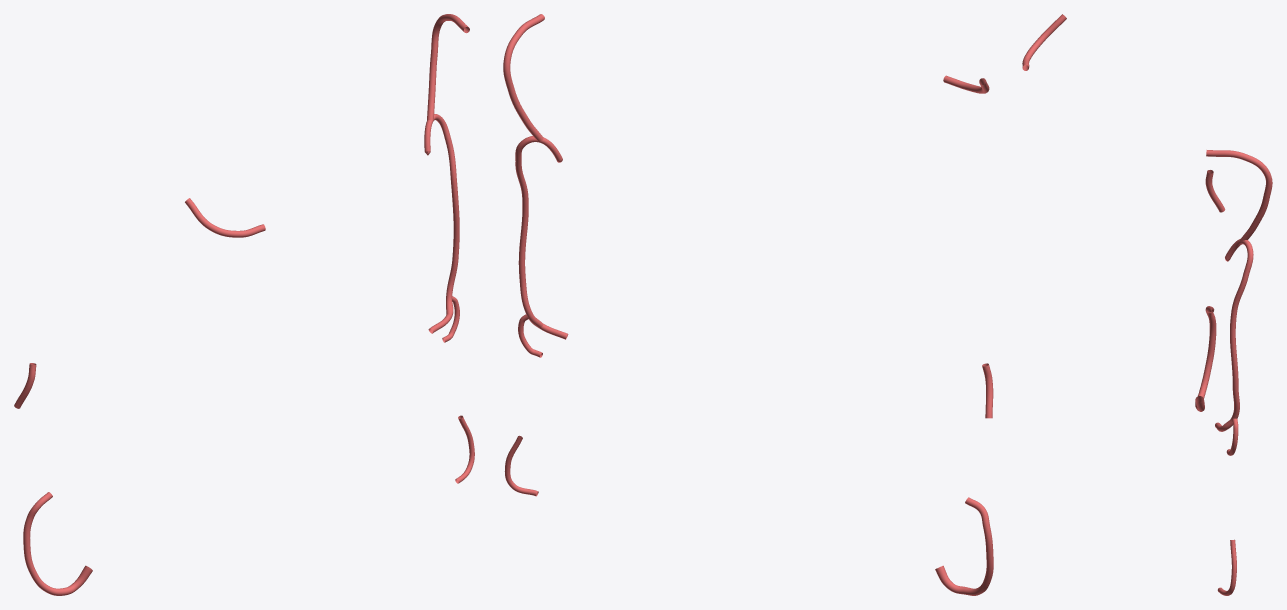
File: Marginal_artery.glb
The picture shows the model from 3 angles, left to right: view 1: azimuth 30°, elevation 25°; view 2: azimuth 150°, elevation 25°; view 3: azimuth 270°, elevation 25°; orthographic projection. The views are drawn at different scales.
Visible parts, largest first — view 1: Marginal_artery_BezierCurve.232; view 2: Marginal_artery_BezierCurve.232; view 3: Marginal_artery_BezierCurve.232.
Part boxes in pixels (<box>): Marginal_artery_BezierCurve.232: <box>14,14,474,595</box>; Marginal_artery_BezierCurve.232: <box>503,14,993,595</box>; Marginal_artery_BezierCurve.232: <box>1022,14,1272,595</box>.
Bounding box in the file's own units: 0.1403 × 0.1343 × 0.0679.
